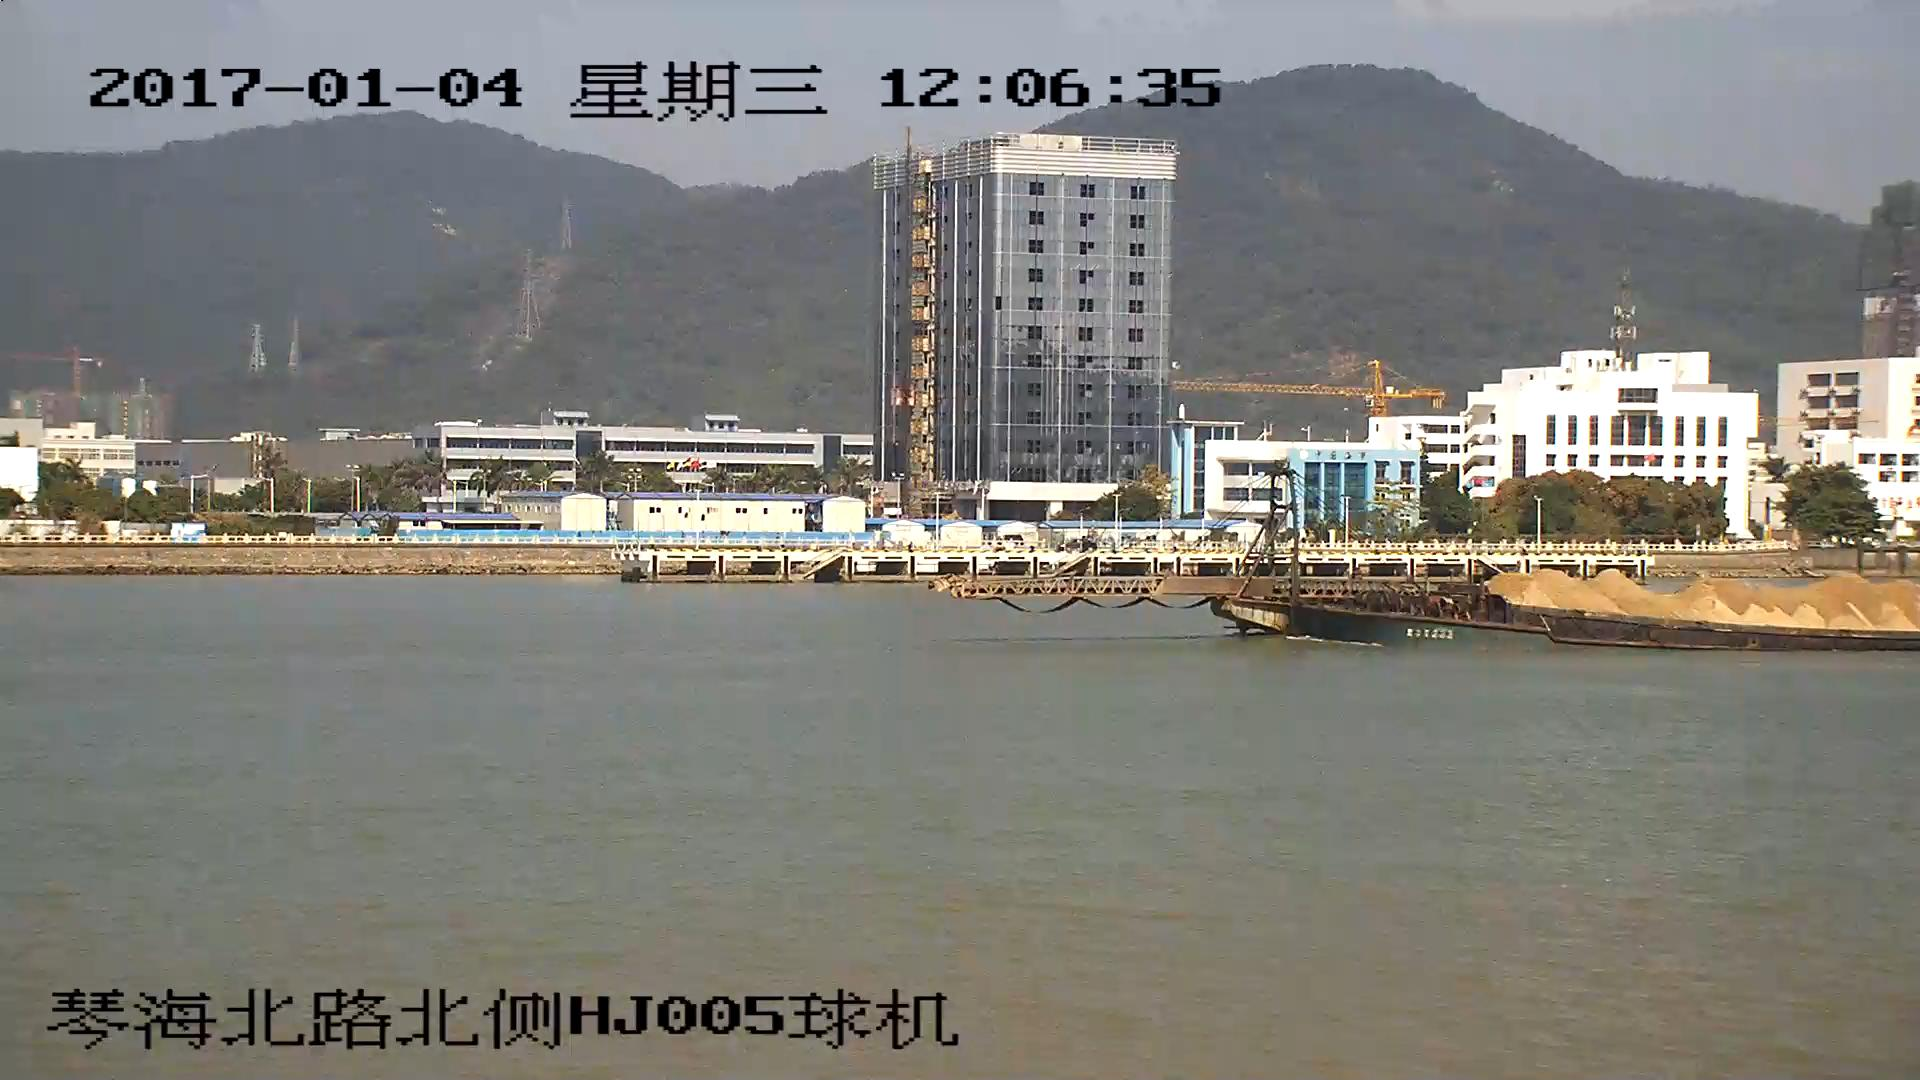ore carrier: (955, 455, 1920, 644)
